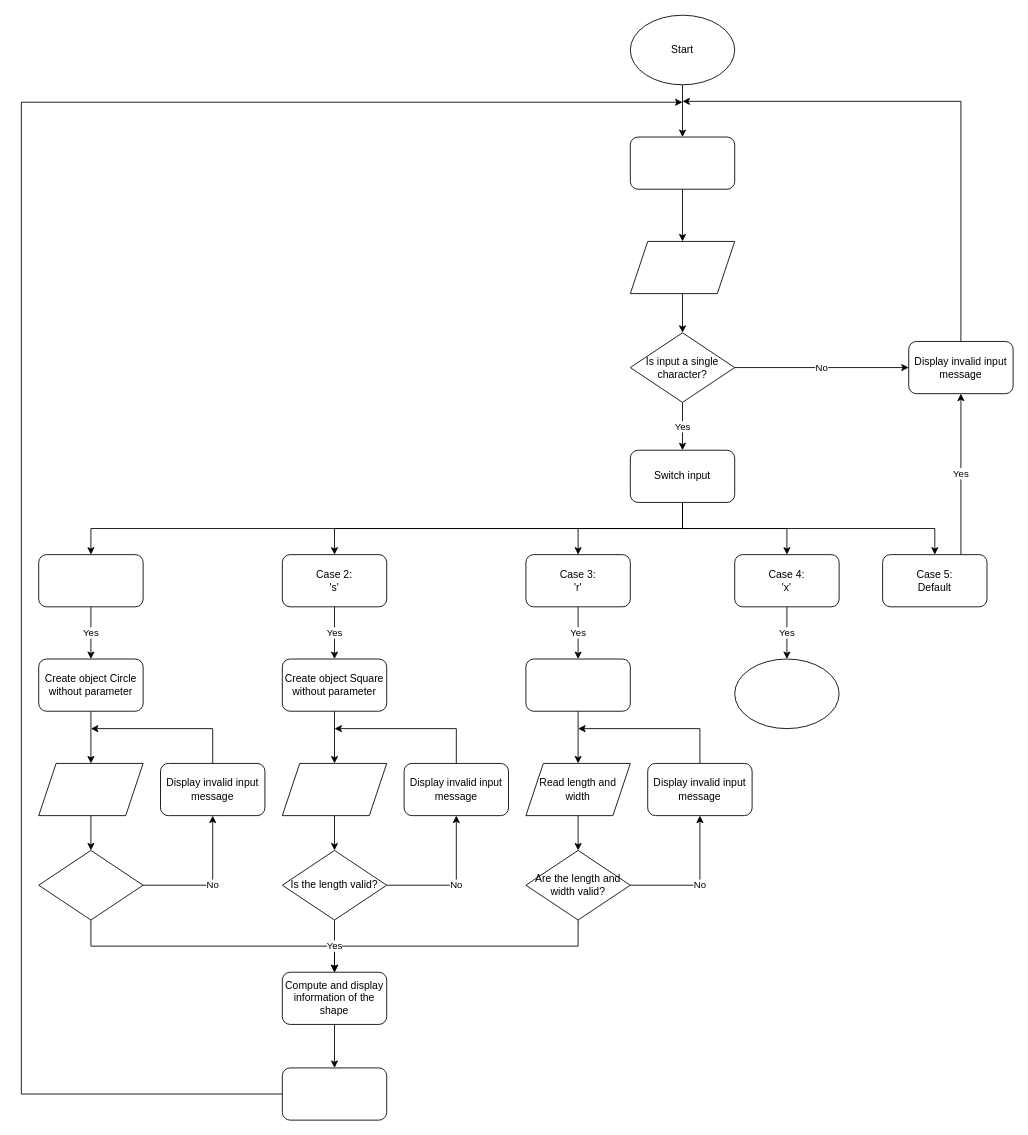
Image size: 1028x1135. Some labels were removed from this diagram. The shapes that lost their labels are listed below. From the top down, each one's centre as x and y in pixels, then its label:
At (682,162): "Display menu".
At (682,267): "Read input".
At (90,580): "Case 1: 'c'".
At (577,684): "Create object Rectangle without parameter".
At (786,693): "End".
At (90,789): "Read radius".
At (334,789): "Read length".
At (90,885): "Is the radius valid?".
At (334,1093): "Display the shape".
